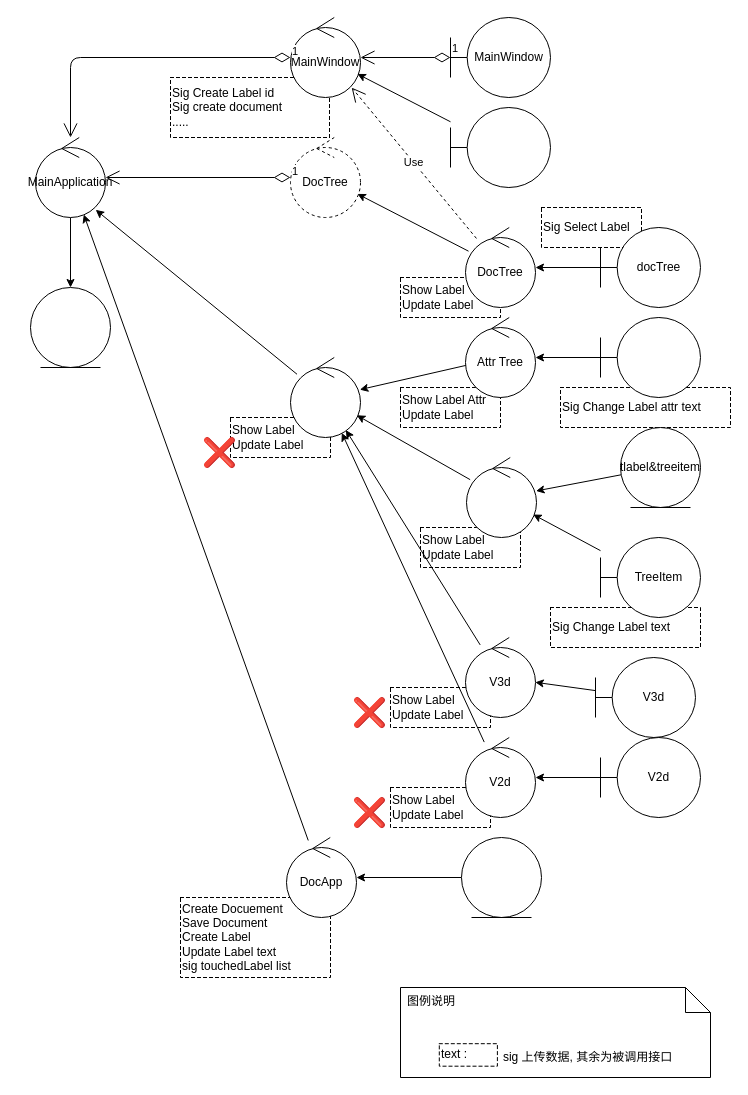
The diagram is 748 pixels wide and 1095 high, and some of its shapes have lost their labels. Here are the shapes that lost their labels. From the top down, the box of each, then its label:
(450, 106, 550, 188): menubar
(30, 286, 110, 368): RDObject_manager
(600, 316, 700, 398): Attr Item
(290, 356, 360, 438): LabelView
(466, 456, 536, 538): ConstructTree
(460, 836, 542, 918): Document
(400, 986, 710, 1078): A <---- B: B为A的组件
